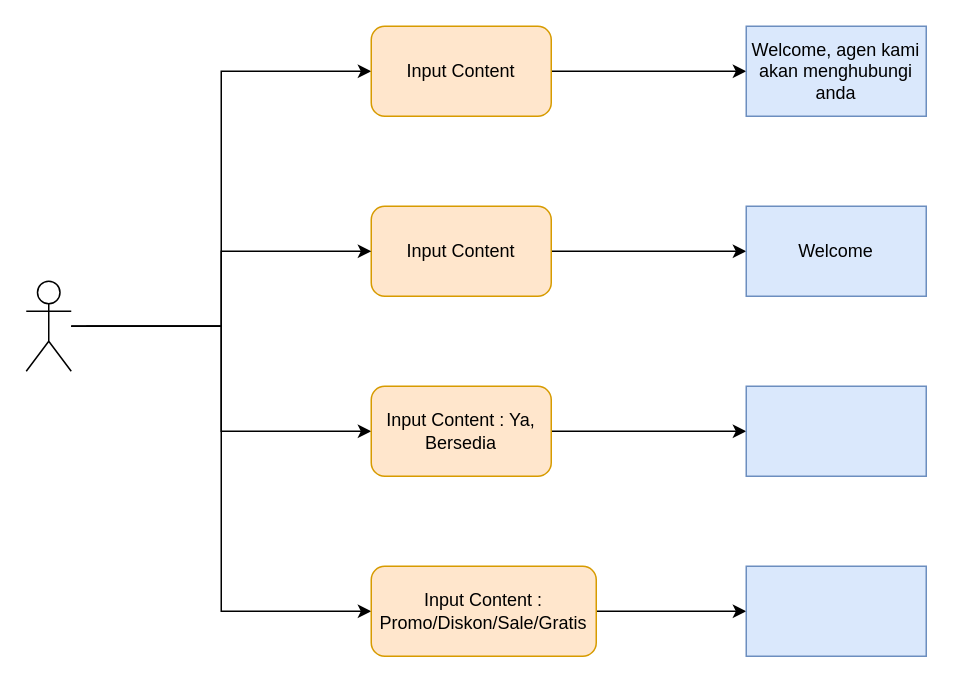
Image size: 953x683. Some labels were removed from this diagram. Each missing label, with the box of its shape:
Agent kami segera menghubungi anda: (745, 385, 926, 476)
Promo Bulan ini "....": (745, 565, 926, 656)
User: (25, 280, 71, 371)
